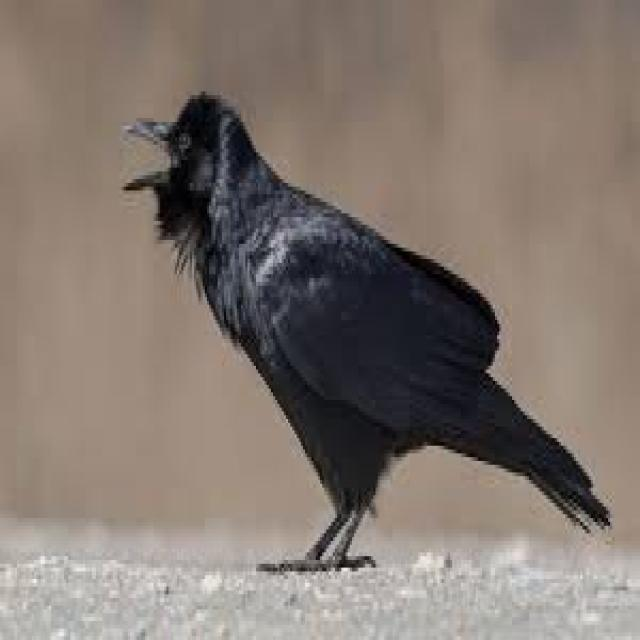crow: (141, 81, 352, 412)
